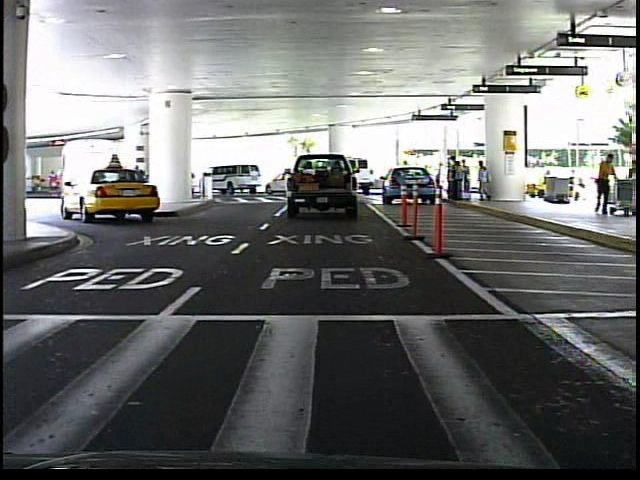person: (592, 150, 621, 220), (623, 157, 637, 214), (398, 158, 413, 196)
